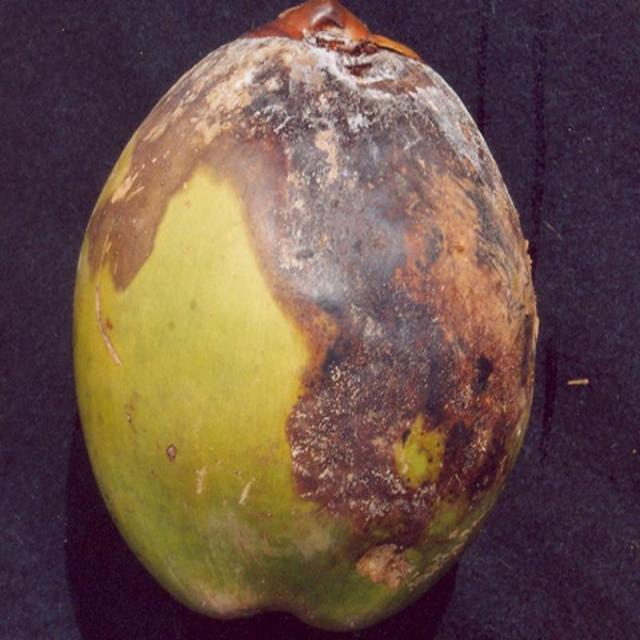damaged: (74, 0, 538, 628)
